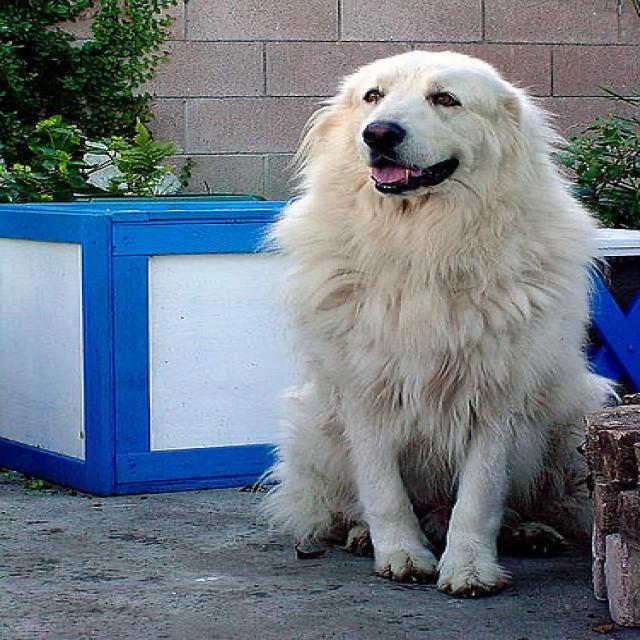dog: (309, 50, 515, 194)
